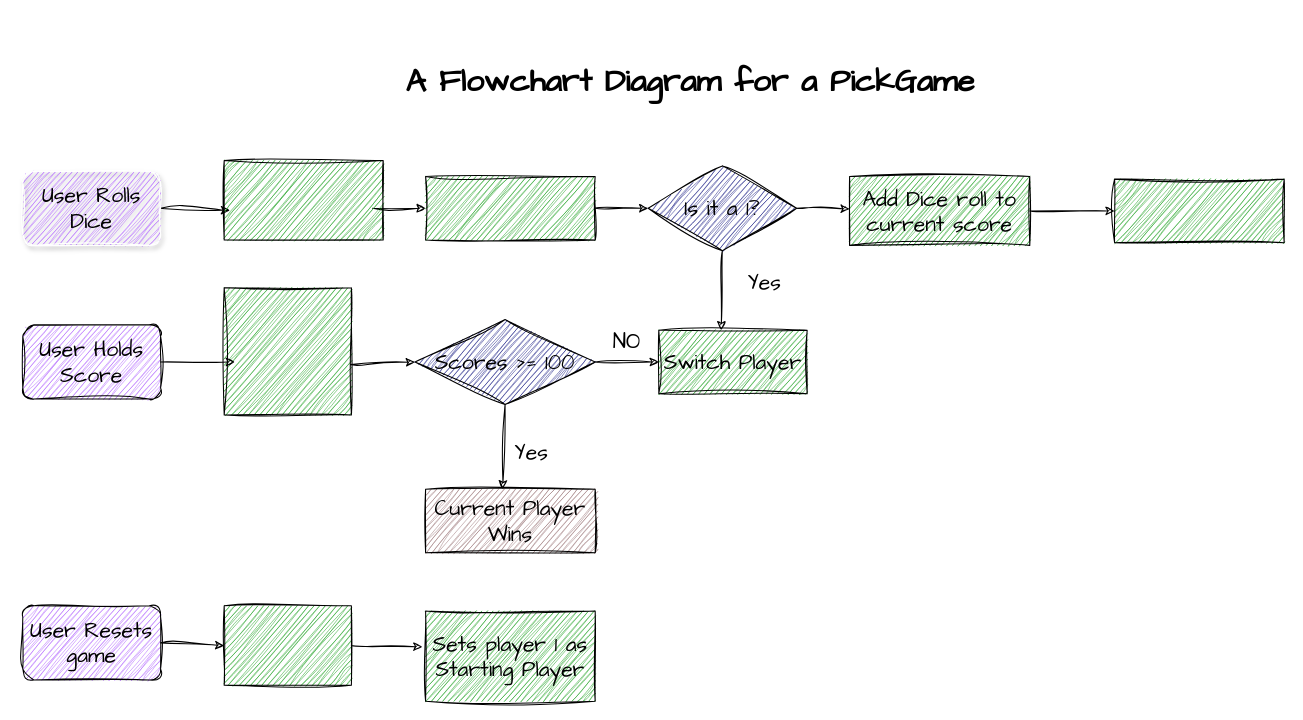
Some shapes in this 1303 by 720 pixel diagram are drawn without their labels. The centre of each missing label's shape, as x and y in pixels:
Adds current score to toal score: pixel 287 351
Display Dice roll: pixel 510 207
Display New Score: pixel 1199 210
Generate random Dice roll: pixel 303 200
Sets all scores to Zero: pixel 287 645
